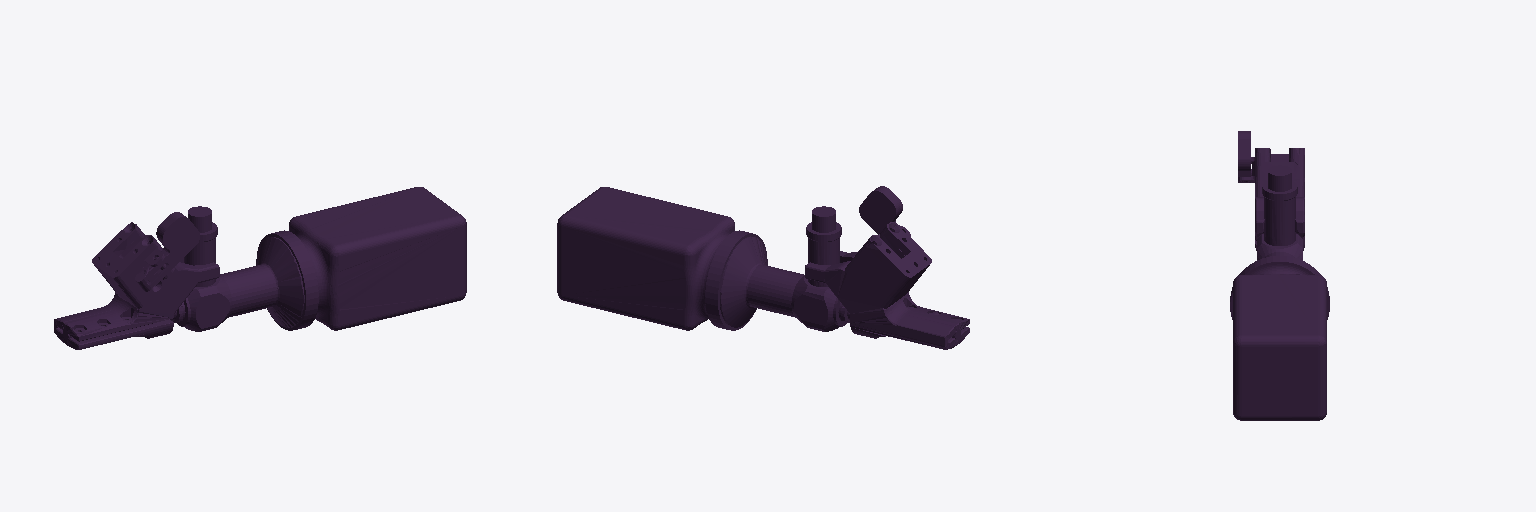
Rendered from EndoscopeNoShaft.OBJ.
The picture shows the model from 3 angles: view 1: azimuth 30°, elevation 25°; view 2: azimuth 150°, elevation 25°; view 3: azimuth 270°, elevation 25°; orthographic projection.
Parts seen in each view (by area): view 1: /ambf/env/Endoscope_35_degree_in_REMS; view 2: /ambf/env/Endoscope_35_degree_in_REMS; view 3: /ambf/env/Endoscope_35_degree_in_REMS.
Part boxes in pixels (x1,y1,x2,y2): /ambf/env/Endoscope_35_degree_in_REMS: (54,187,466,349); /ambf/env/Endoscope_35_degree_in_REMS: (557,186,969,349); /ambf/env/Endoscope_35_degree_in_REMS: (1230,131,1329,420).
Bounding box in the file's own units: 0.1499 × 0.0584 × 0.034.